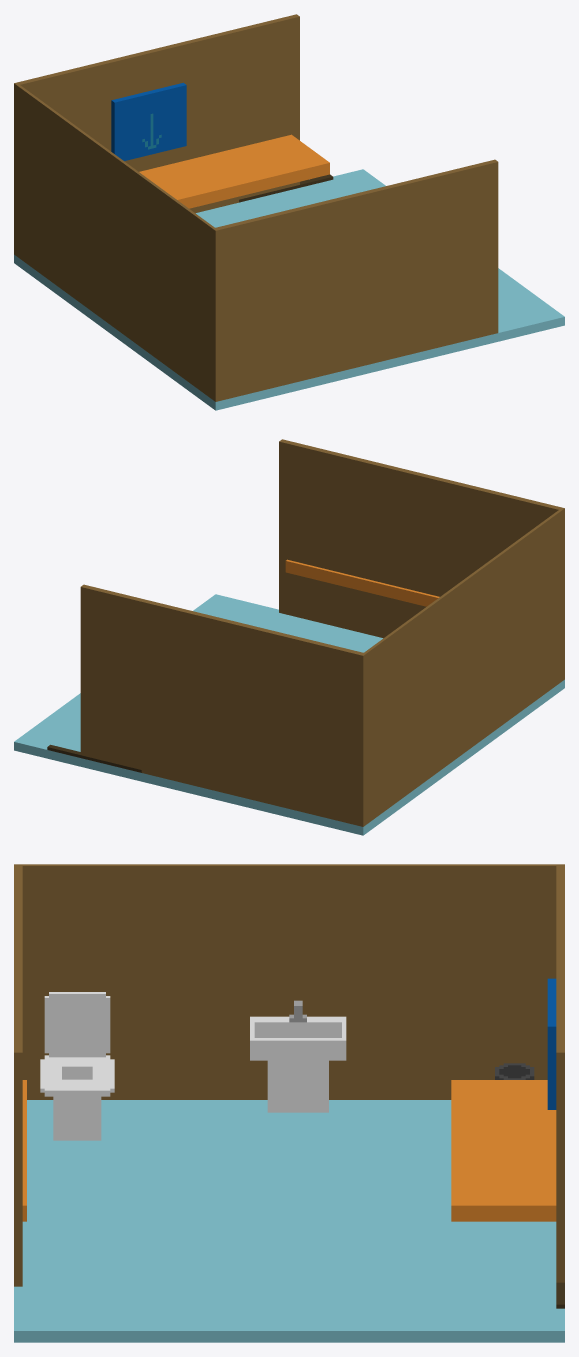
File: place_bathroom.obj
The picture shows the model from 3 angles, top to bottom: view 1: azimuth 30°, elevation 25°; view 2: azimuth 150°, elevation 25°; view 3: azimuth 270°, elevation 25°; orthographic projection. The views are drawn at different scales.
Visible parts, largest first — view 1: place_bathroom; view 2: place_bathroom; view 3: place_bathroom.
Part boxes in pixels (box(x1,y1,x2,y2)): place_bathroom: box(14, 14, 564, 410); place_bathroom: box(14, 439, 564, 835); place_bathroom: box(14, 864, 564, 1342).
Bounding box in the file's own units: 126 × 62 × 126.
1 material, 1 textured.
